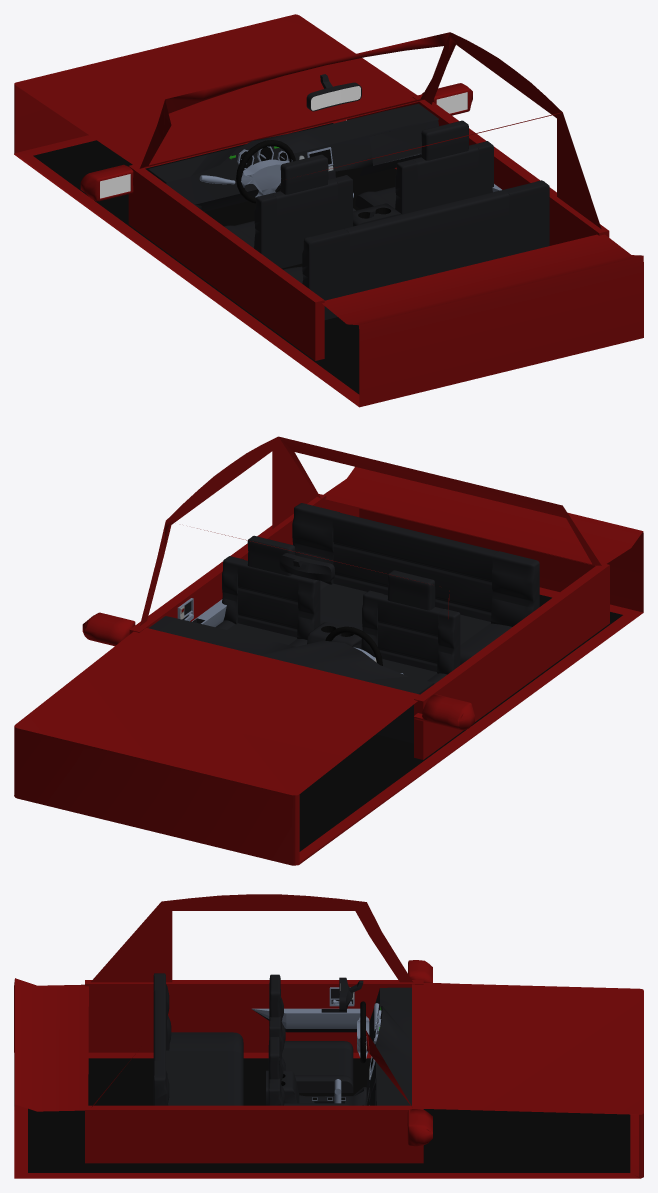
Rendered from full car model.fbx.
3 renders of one model, top to bottom at view 1: azimuth 30°, elevation 25°; view 2: azimuth 150°, elevation 25°; view 3: azimuth 270°, elevation 25°, orthographic. The views are drawn at different scales.
Visible parts, largest first — view 1: Box001, Back seat, Dashboard, front seat, passenger seat, Steering wheel, Left side mirror shell, Rearview mirror; view 2: Box001, Back seat, front seat, passenger seat, Dashboard, Left side mirror shell, Right side mirror shell, Rearview mirror shell; view 3: Box001, Back seat, Dashboard, front seat, Box003, passenger seat, Right side mirror shell, Steering wheel, Left side mirror shell, Rearview mirror shell.
Part boxes in pixels (x1,y1,x2,y2): Box001: (14, 14, 643, 407); Back seat: (283, 180, 549, 319); Dashboard: (148, 103, 438, 226); front seat: (224, 154, 352, 268); passenger seat: (355, 120, 493, 214); Steering wheel: (236, 140, 295, 203); Left side mirror shell: (80, 164, 133, 201); Rearview mirror: (311, 86, 360, 110); Box001: (14, 436, 643, 865); Back seat: (292, 503, 539, 664); front seat: (361, 570, 460, 683); passenger seat: (215, 535, 320, 646); Dashboard: (149, 616, 434, 743); Left side mirror shell: (414, 694, 474, 730); Right side mirror shell: (82, 612, 135, 646); Rearview mirror shell: (279, 553, 334, 581); Box001: (14, 894, 643, 1178); Back seat: (153, 973, 243, 1105); Dashboard: (266, 987, 411, 1105); front seat: (269, 974, 353, 1092); Box003: (251, 1008, 360, 1032); passenger seat: (268, 1037, 349, 1105); Right side mirror shell: (407, 1109, 432, 1146); Steering wheel: (357, 1001, 369, 1063); Left side mirror shell: (408, 960, 432, 982); Rearview mirror shell: (339, 977, 363, 1011).
Bounding box in the file's own units: 118 × 51.07 × 183.
